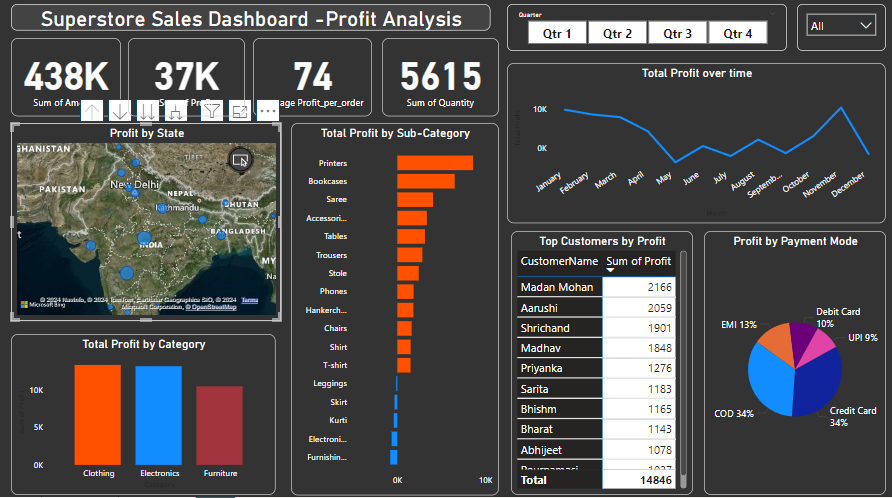

What the dashboard file says about the page in this screenshot:
{"tool":"powerbi","page":{"name":"Page 2","canvas":[1280,720],"ordinal":1},"visuals":[{"type":"textbox","title":"Superstore Sales Dashboard -Profit Analysis","box":[15,6.7,685,38.3],"z":0},{"type":"slicer","fields":{"Values":["Orders.Order Date.Variation.Date Hierarchy.Quarter"]},"box":[725,6.7,400,66.7],"z":1000},{"type":"slicer","fields":{"Values":["Orders.State"]},"box":[1138.3,6.7,126.7,66.7],"z":2000},{"type":"card","fields":{"Values":["Details.Amount"]},"box":[15,55,156.7,111.7],"z":3000},{"type":"card","fields":{"Values":["Details.Average Profit_per_order"]},"box":[361.7,55,170,111.7],"z":4000},{"type":"lineChart","title":"Total Profit over time","fields":{"Category":["Orders.Order Date.Variation.Date Hierarchy.Month"],"Y":["Details.total profit"]},"box":[724.3,90.7,541.4,229],"z":5000},{"type":"columnChart","title":"Total Profit by Category ","fields":{"Category":["Details.Category"],"Y":["Details.Profit"]},"box":[15,478.3,378.3,230],"z":6000},{"type":"barChart","title":"Total Profit by Sub-Category","fields":{"Category":["Details.Sub-Category"],"Y":["Details.Profit"]},"box":[415,176.7,296.7,531.7],"z":7000},{"type":"map","title":"Profit by State","fields":{"Category":["Orders.State","Orders.City"],"Size":["Details.total profit"]},"box":[15,176.7,386.7,283.3],"z":8000},{"type":"pieChart","title":"Profit by Payment Mode","fields":{"Category":["Details.PaymentMode"],"Y":["Details.total profit"]},"box":[1005,331.7,260,376.7],"z":9000},{"type":"pivotTable","title":"Top Customers by Profit","fields":{"Rows":["Orders.CustomerName"],"Values":["Details.Profit"]},"box":[730,331.7,260,376.7],"z":10000},{"type":"card","fields":{"Values":["Details.Profit"]},"box":[183.3,55,166.7,111.7],"z":11000},{"type":"card","fields":{"Values":["Details.Quantity"]},"box":[545,55,166.7,111.7],"z":12000}]}

Visuals, with their boxes in screenshot pixels (x1, y1, x2, y2), scaled from the page's 1280x720 canvas onto the 892x498 screenshot:
"Superstore Sales Dashboard -Profit Analysis" textbox: (left=10, top=5, right=488, bottom=31)
slicer - Orders.Order Date.Variation.Date Hierarchy.Quarter: (left=505, top=5, right=784, bottom=51)
slicer - Orders.State: (left=793, top=5, right=882, bottom=51)
card - Details.Amount: (left=10, top=38, right=120, bottom=115)
card - Details.Average Profit_per_order: (left=252, top=38, right=371, bottom=115)
"Total Profit over time" lineChart: (left=505, top=63, right=882, bottom=221)
"Total Profit by Category " columnChart: (left=10, top=331, right=274, bottom=490)
"Total Profit by Sub-Category" barChart: (left=289, top=122, right=496, bottom=490)
"Profit by State" map: (left=10, top=122, right=280, bottom=318)
"Profit by Payment Mode" pieChart: (left=700, top=229, right=882, bottom=490)
"Top Customers by Profit" pivotTable: (left=509, top=229, right=690, bottom=490)
card - Details.Profit: (left=128, top=38, right=244, bottom=115)
card - Details.Quantity: (left=380, top=38, right=496, bottom=115)
